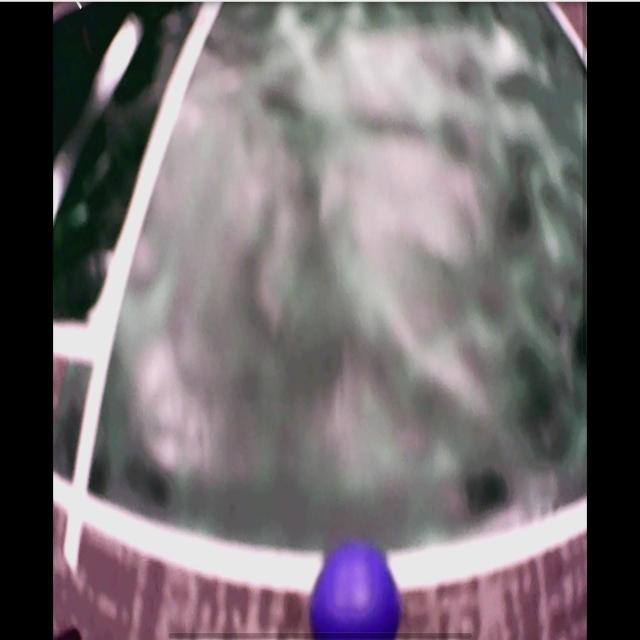ball: (311, 546, 398, 640)
